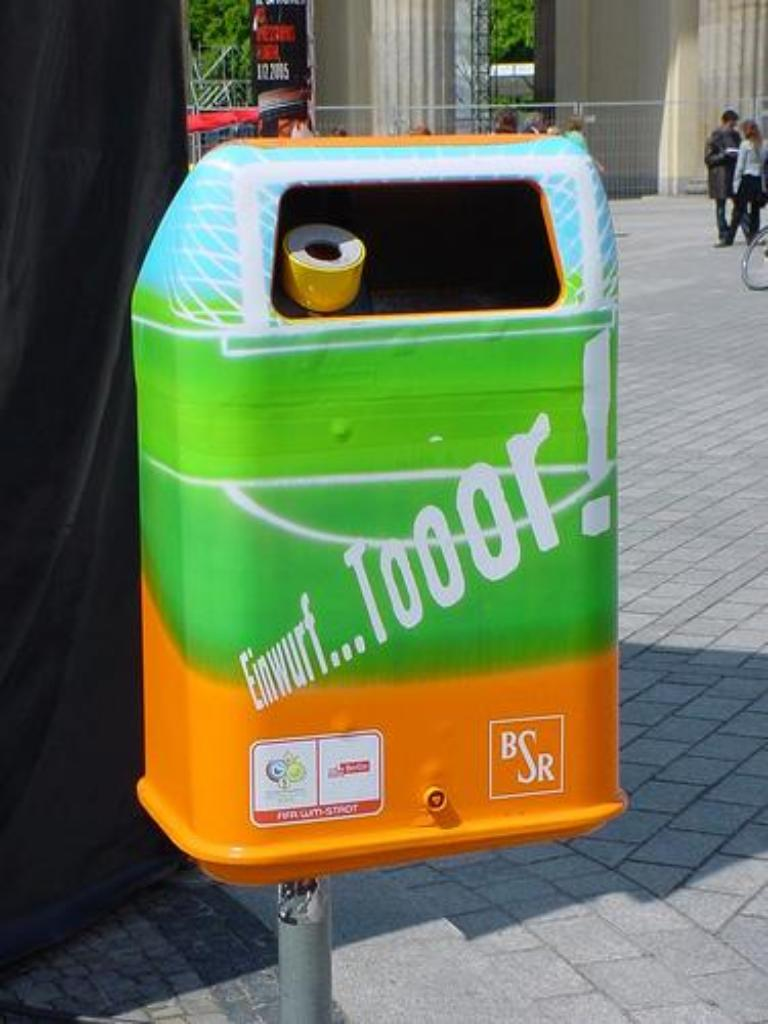dustbin: (153, 135, 645, 886)
